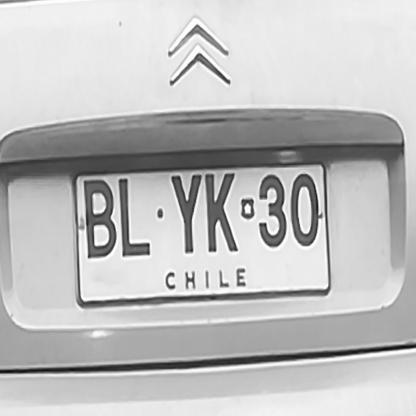Patente: (72, 166, 332, 303)
